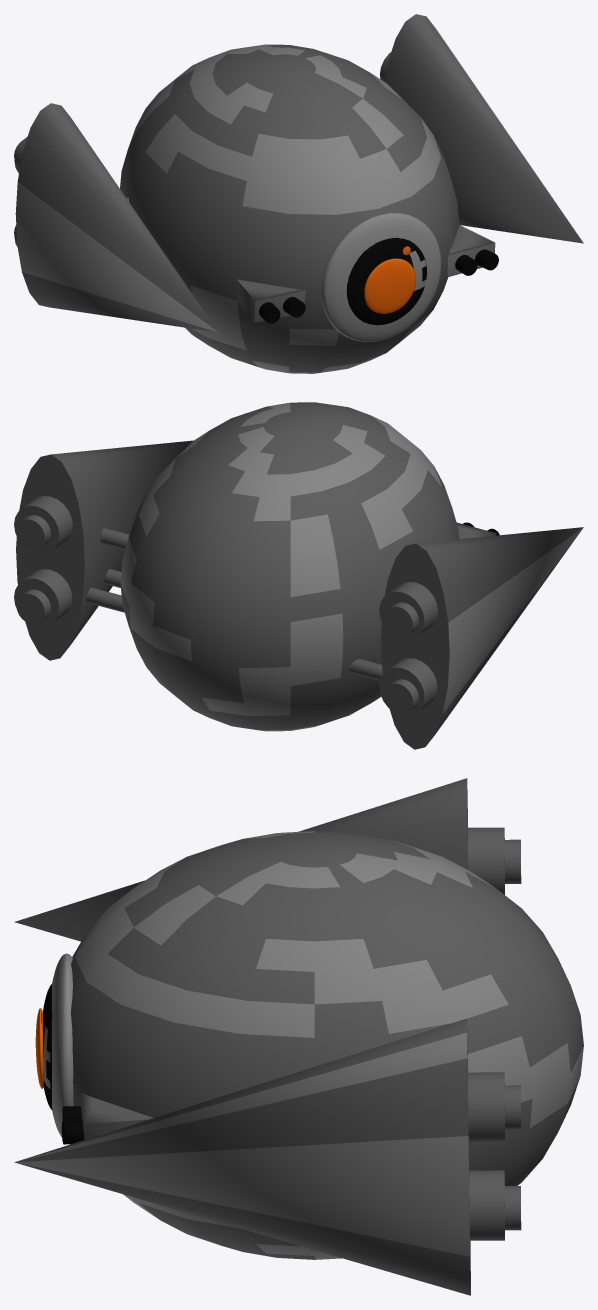
File: Enemie Drone Rusty.fbx
3 views of the same model, one above another, from view 1: azimuth 30°, elevation 25°; view 2: azimuth 150°, elevation 25°; view 3: azimuth 270°, elevation 25° (orthographic). The views are drawn at different scales.
Visible parts, largest first — view 1: polySurface20; view 2: polySurface20; view 3: polySurface20.
Boxes of the visible parts, x1,y1,x2,y2 form: polySurface20: (14, 14, 583, 373); polySurface20: (14, 402, 583, 749); polySurface20: (14, 778, 583, 1295).
Size of the model in its own units: 7.23 by 4.59 by 6.1.
